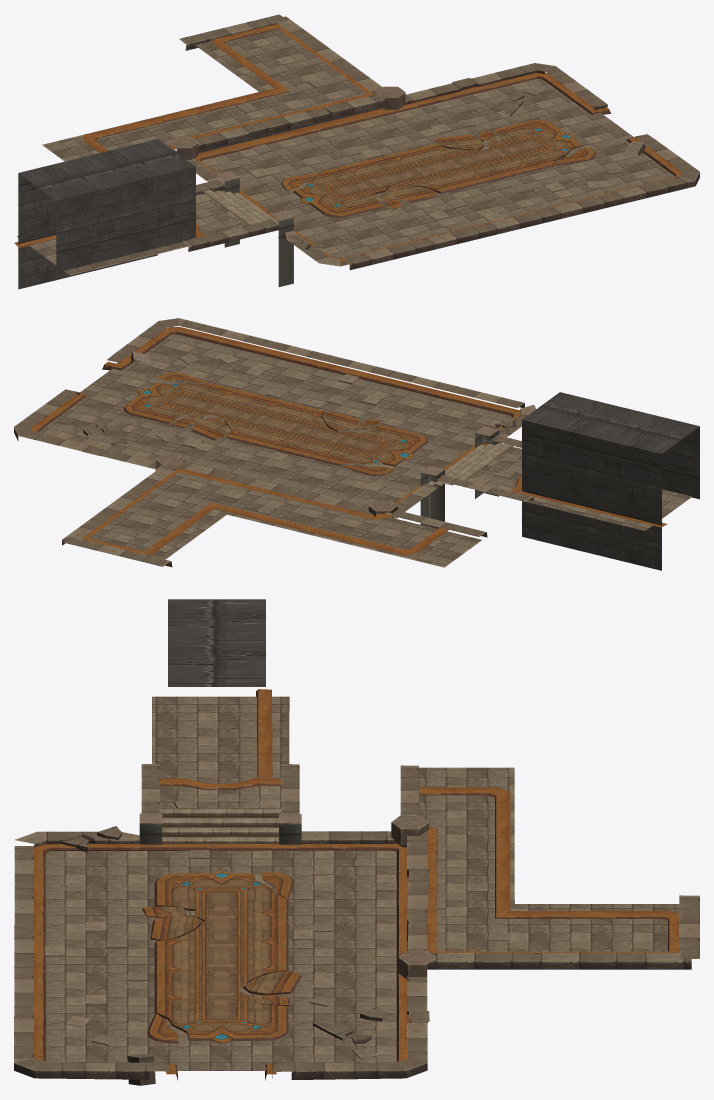
Rendered from terrain_section03_guanka1203.FBX.
3 renders of one model, top to bottom at view 1: azimuth 30°, elevation 25°; view 2: azimuth 150°, elevation 25°; view 3: azimuth 270°, elevation 25°, orthographic. The views are drawn at different scales.
Visible parts, largest first — view 1: terrain_section03_guanka1203; view 2: terrain_section03_guanka1203; view 3: terrain_section03_guanka1203.
Part boxes in pixels (box(x1,y1,x2,y2)): terrain_section03_guanka1203: box(14, 14, 699, 289); terrain_section03_guanka1203: box(14, 318, 699, 570); terrain_section03_guanka1203: box(14, 599, 699, 1085).
Size of the model in its own units: 61.25 by 12.78 by 47.44.
